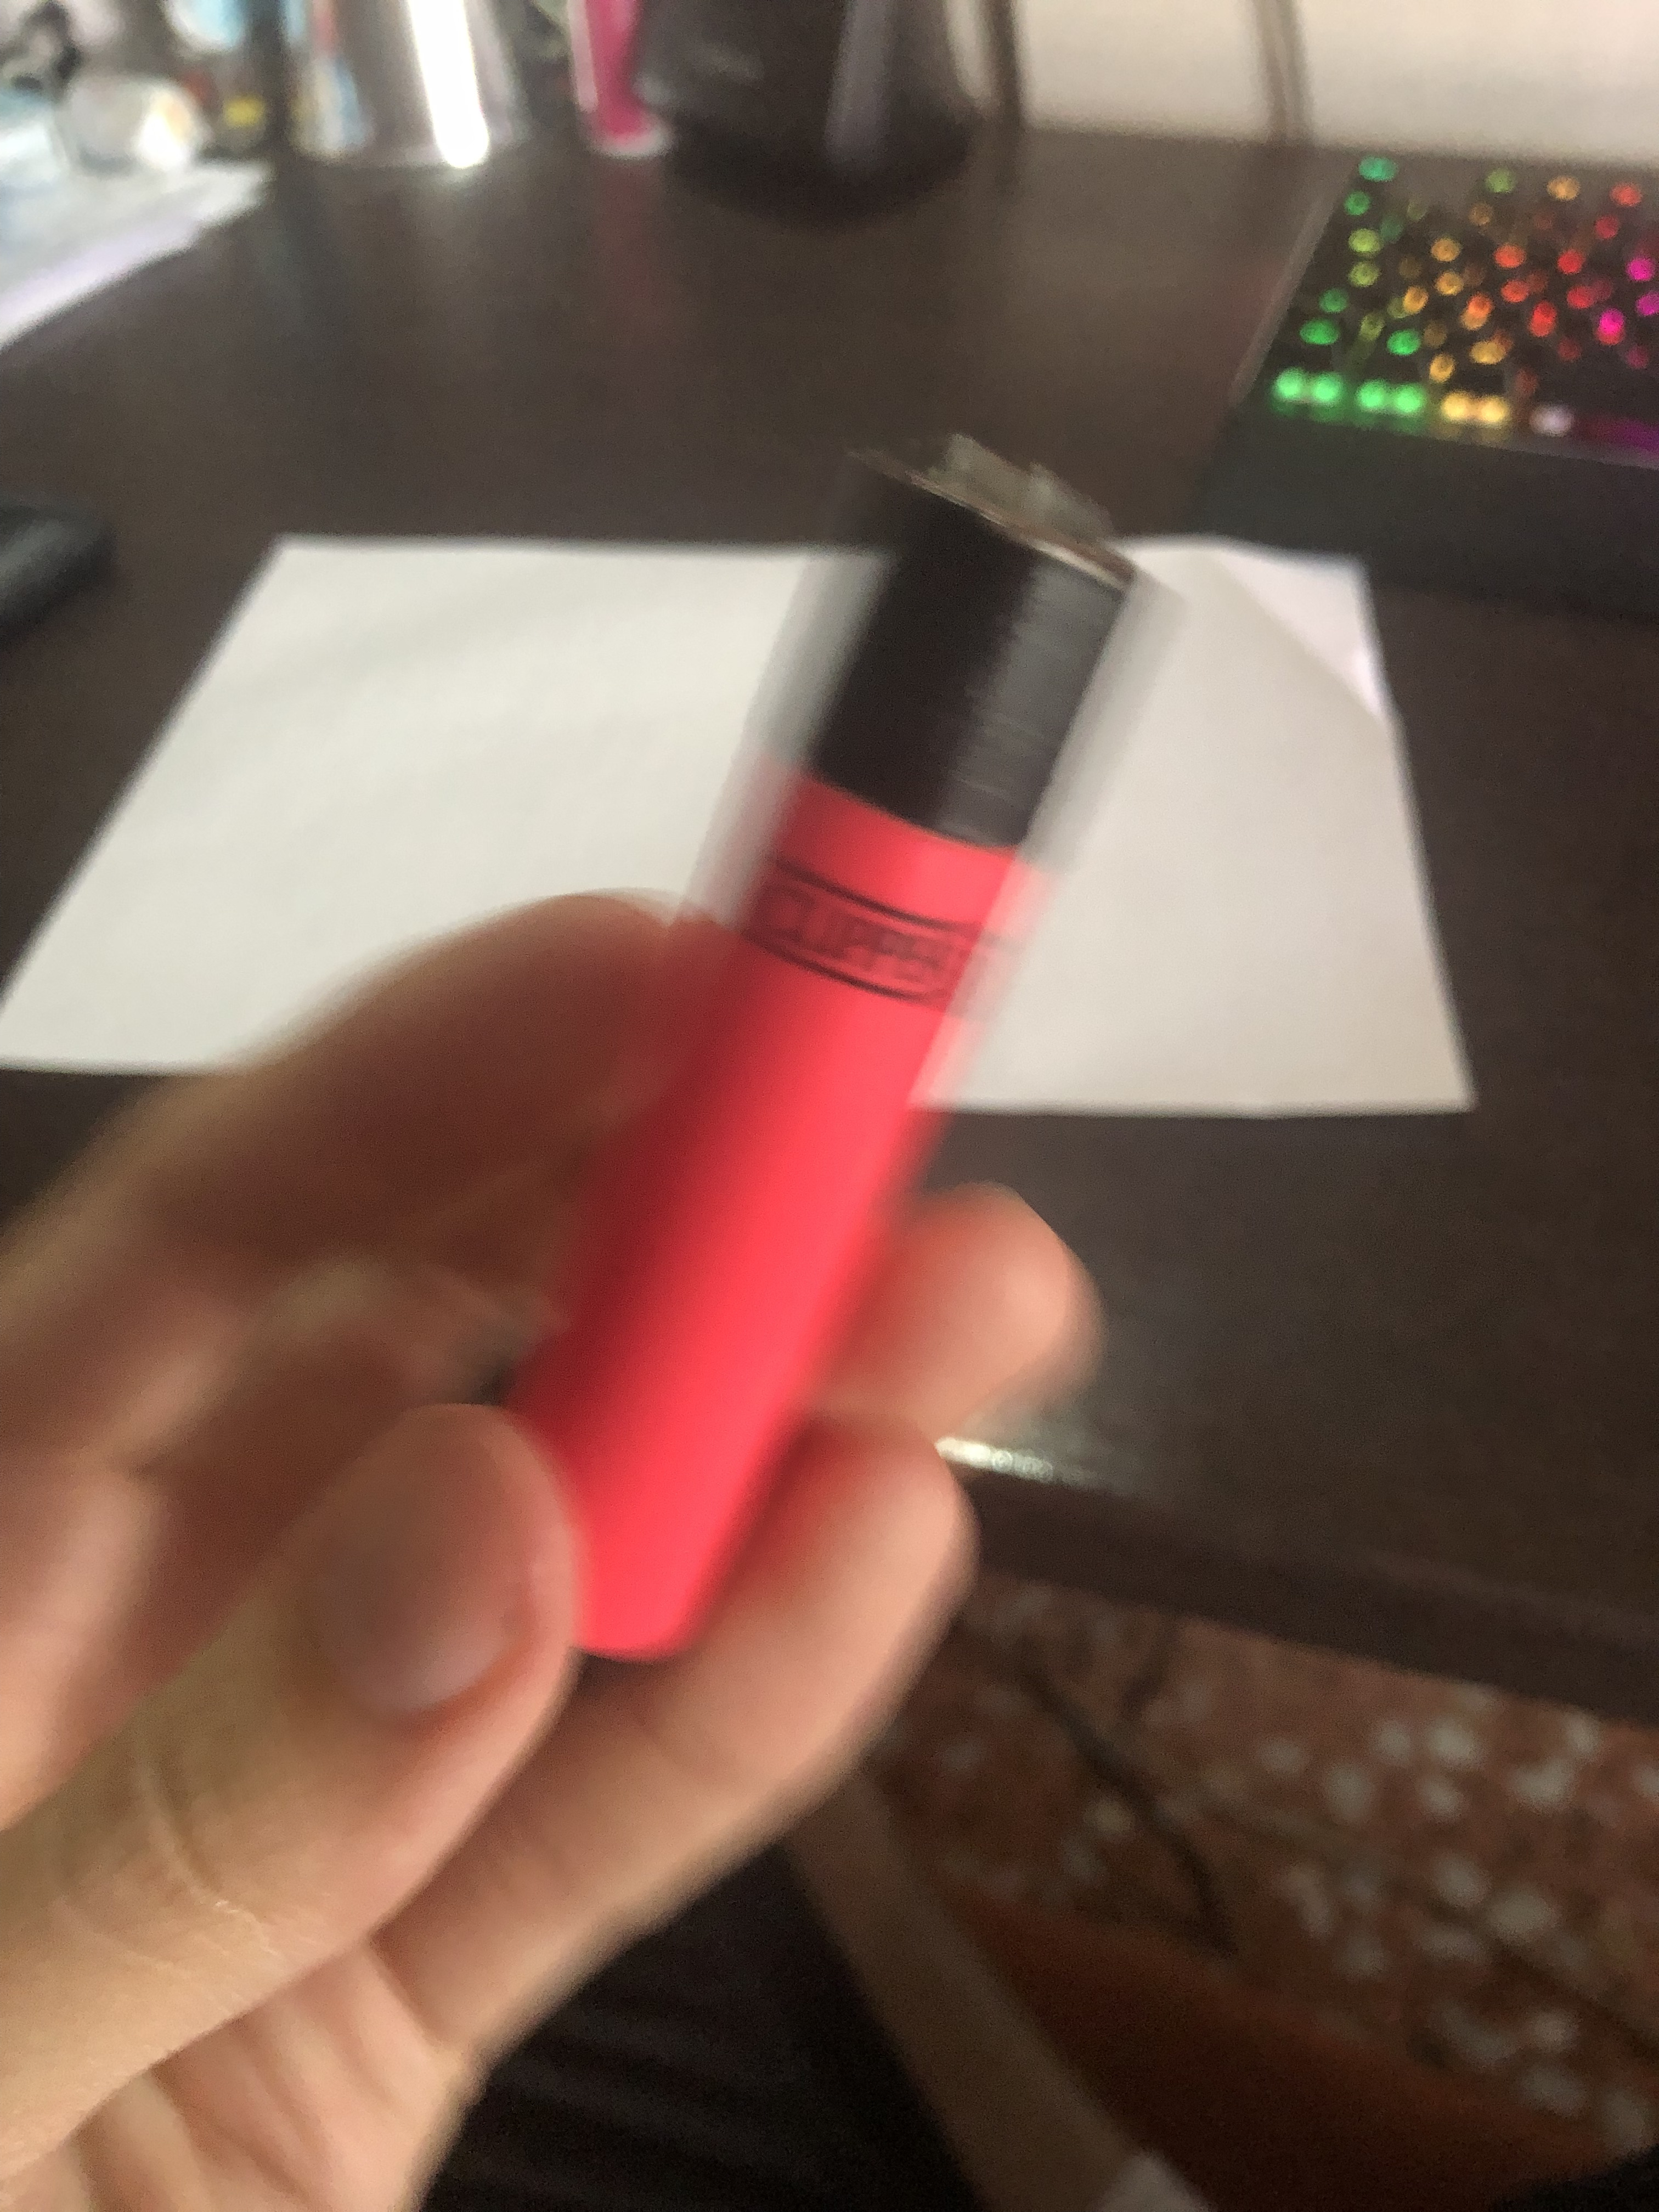Mechero: (488, 423, 1171, 1667)
